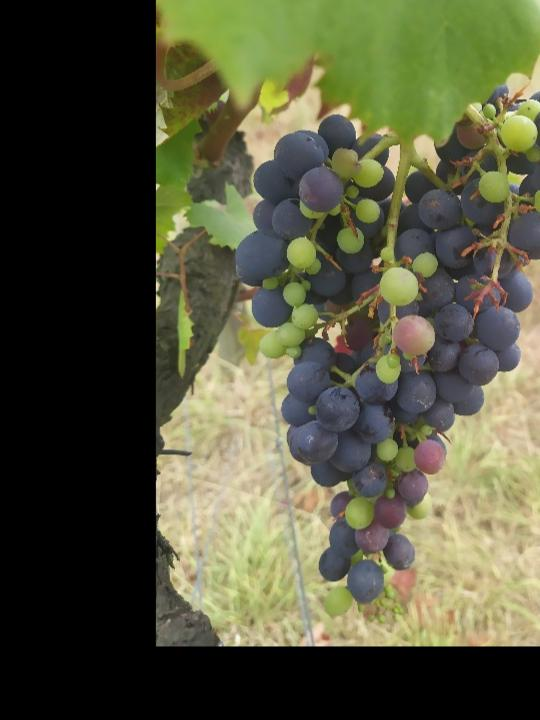grape: (231, 76, 540, 619)
